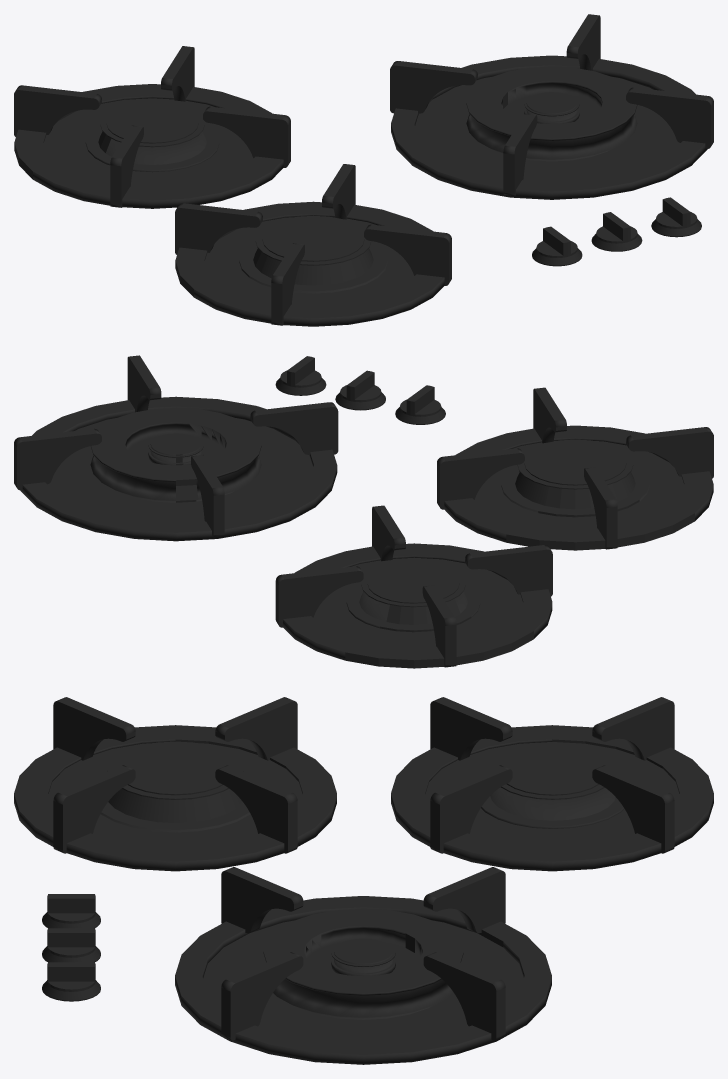
Rendered from gas-stove.glb.
The picture shows the model from 3 angles, top to bottom: view 1: azimuth 30°, elevation 25°; view 2: azimuth 150°, elevation 25°; view 3: azimuth 270°, elevation 25°; orthographic projection. The views are drawn at different scales.
Visible parts, largest first — view 1: gas-pit; view 2: gas-pit; view 3: gas-pit.
Boxes of the visible parts, left/top/right/bottom form: gas-pit: left=14, top=14, right=713, bottom=326; gas-pit: left=14, top=355, right=713, bottom=668; gas-pit: left=14, top=697, right=713, bottom=1064.
Bounding box in the file's own units: 0.5511 × 0.0515 × 0.494.
Materials: 1 (1 with a texture image).
